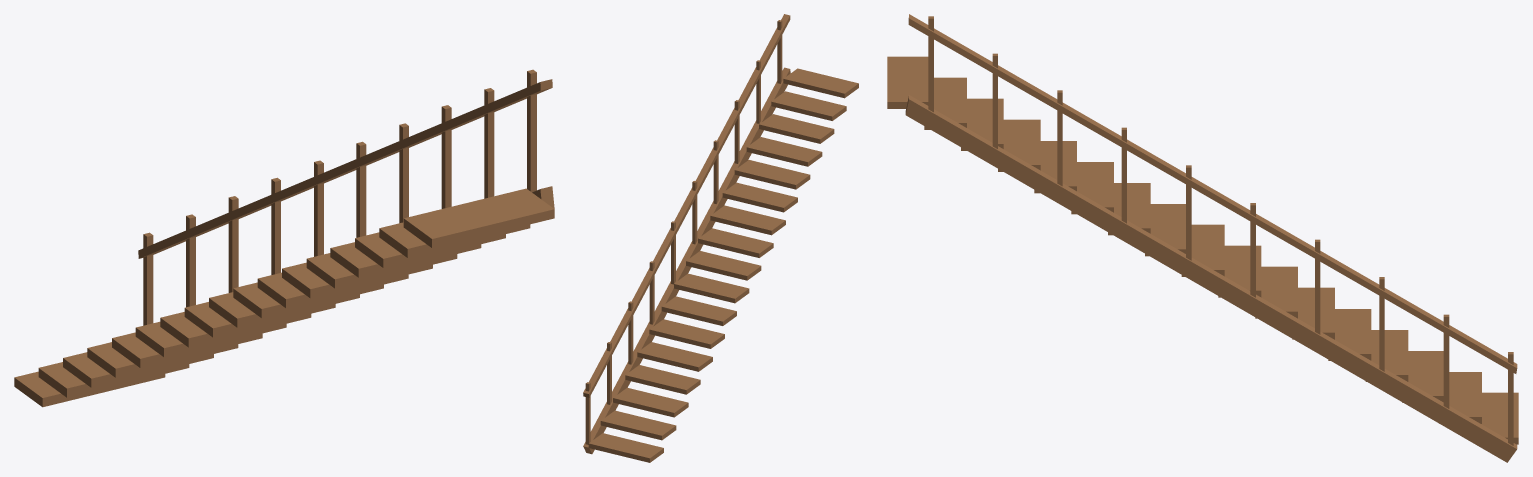
Rendered from Stairs_2.fbx.
The picture shows the model from 3 angles, left to right: view 1: azimuth 30°, elevation 25°; view 2: azimuth 150°, elevation 25°; view 3: azimuth 270°, elevation 25°; orthographic projection. The views are drawn at different scales.
Visible parts, largest first — view 1: Stairs2_mesh; view 2: Stairs2_mesh; view 3: Stairs2_mesh.
Part boxes in pixels (x1,y1,x2,y2): Stairs2_mesh: (14, 69, 554, 407); Stairs2_mesh: (583, 14, 858, 462); Stairs2_mesh: (887, 14, 1518, 462).
Size of the model in its own units: 83.58 by 348 by 449.
